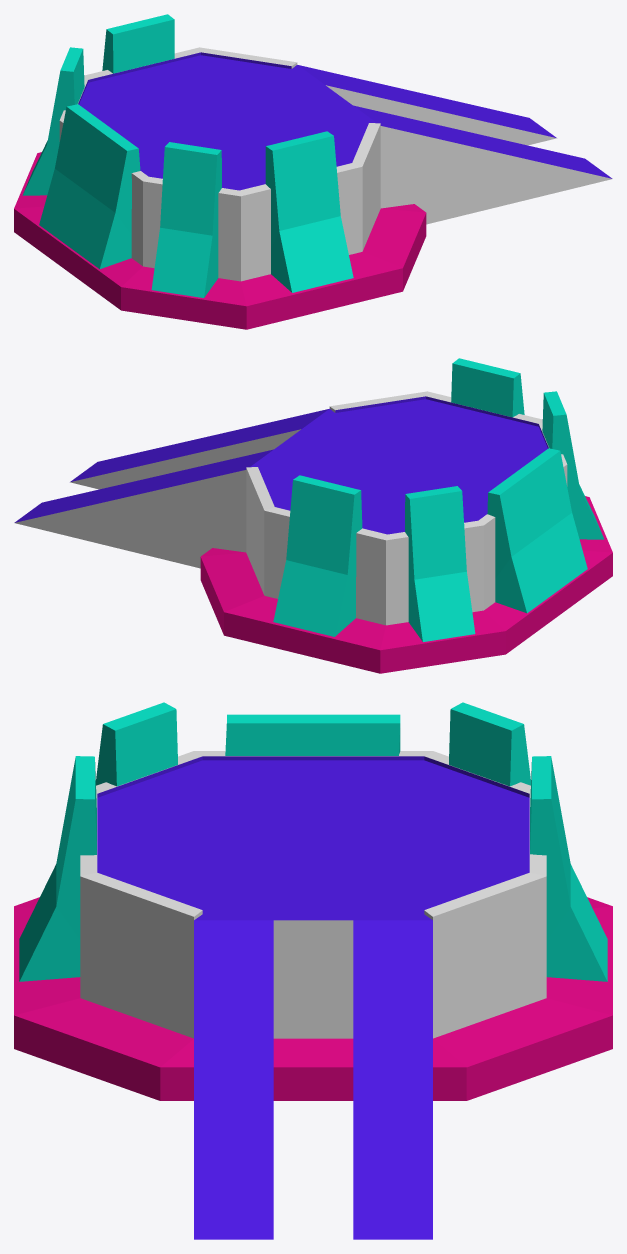
File: Platform_JaeforzsFox.fbx
3 renders of one model, top to bottom at view 1: azimuth 30°, elevation 25°; view 2: azimuth 150°, elevation 25°; view 3: azimuth 270°, elevation 25°, orthographic. The views are drawn at different scales.
Visible parts, largest first — view 1: Куб.003, Куб.006, Куб.001, Куб.005, Куб.002, Куб.004; view 2: Куб.003, Куб.006, Куб.002, Куб.004, Куб.001, Куб.005; view 3: Куб.003, Куб.001, Куб.002, Куб.006, Куб.004, Куб.005.
Boxes of the visible parts, x1,y1,x2,y2 form: Куб.003: (14,47,612,329); Куб.006: (39,104,140,269); Куб.001: (265,131,353,292); Куб.005: (151,142,221,297); Куб.002: (102,14,174,73); Куб.004: (22,47,84,195); Куб.003: (14,391,612,673); Куб.006: (487,448,587,613); Куб.002: (273,475,362,636); Куб.004: (405,486,475,641); Куб.001: (451,358,524,417); Куб.005: (542,391,604,539); Куб.003: (14,751,612,1239); Куб.001: (19,756,96,981); Куб.002: (530,756,607,981); Куб.006: (225,714,400,755); Куб.004: (449,702,530,786); Куб.005: (96,702,177,786).
Bounding box in the file's own units: 424 × 122 × 305.
